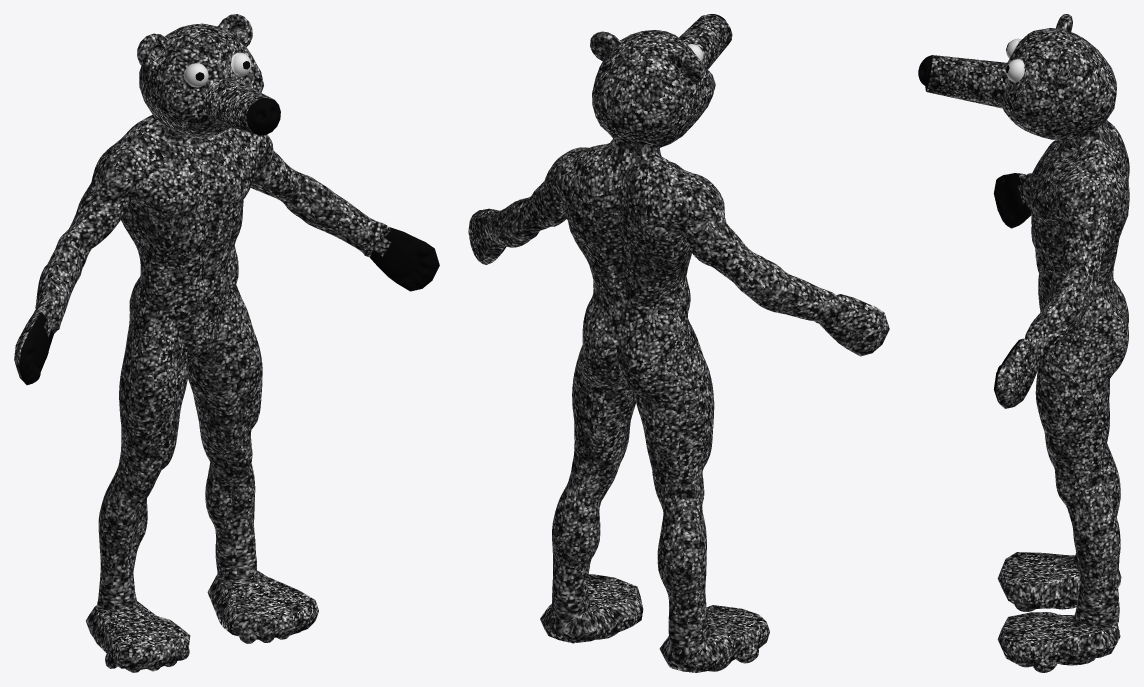
Rendered from grizzly.glb.
3 renders of one model, left to right at view 1: azimuth 30°, elevation 25°; view 2: azimuth 150°, elevation 25°; view 3: azimuth 270°, elevation 25°, orthographic. The views are drawn at different scales.
Visible parts, largest first — view 1: Sphere.028; view 2: Sphere.028; view 3: Sphere.028.
Boxes of the visible parts, left/top/right/bottom form: Sphere.028: left=14, top=14, right=439, bottom=672; Sphere.028: left=468, top=14, right=889, bottom=672; Sphere.028: left=918, top=14, right=1129, bottom=672.
Bounding box in the file's own units: 1.29 × 1.79 × 0.5767.
3 materials, 1 textured.
